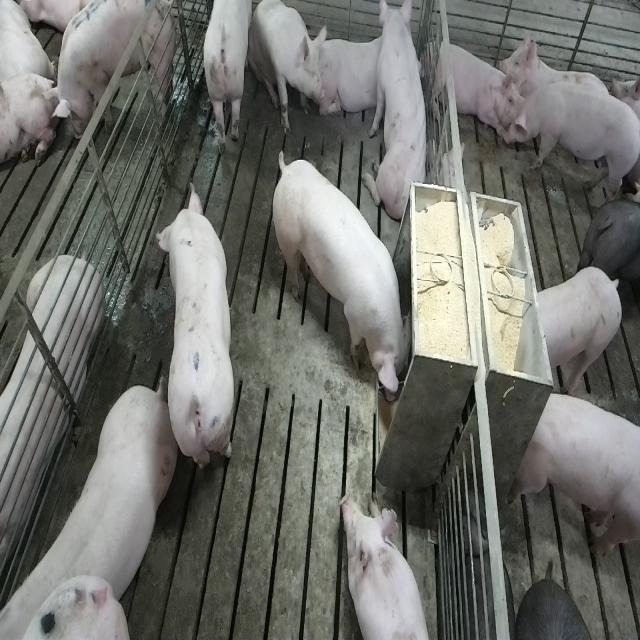Feeding: (276, 148, 418, 403)
Sitting: (368, 4, 431, 227), (249, 1, 323, 136)
Standing: (5, 374, 179, 634), (157, 181, 235, 474), (514, 386, 638, 563), (50, 0, 178, 136), (501, 82, 640, 202), (533, 265, 623, 399), (201, 2, 255, 156)
Sternal_lying: (0, 251, 102, 578), (340, 491, 434, 640), (425, 31, 514, 142), (313, 31, 388, 122), (609, 58, 640, 140)
